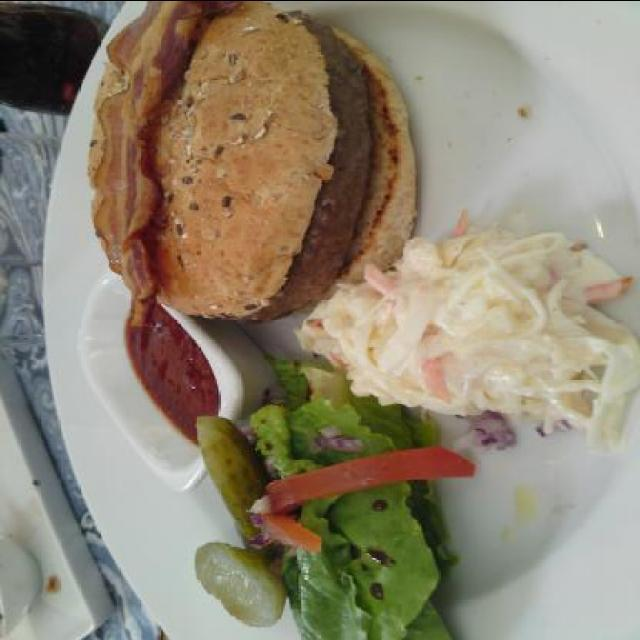Sandwich: (94, 0, 418, 322)
